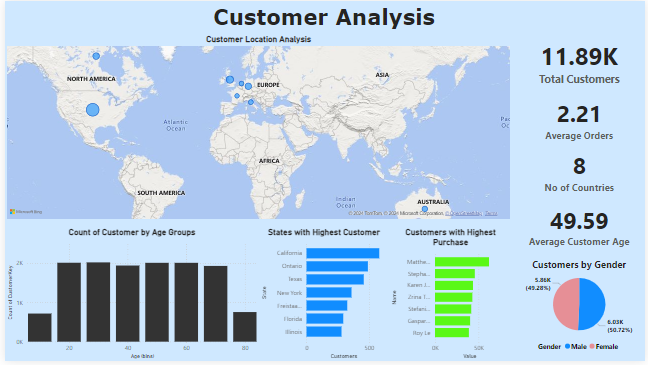

Layout of this report page (visuals, bound fields, positions):
{"tool":"powerbi","page":{"name":"Page 1","canvas":[1280,720],"ordinal":0},"visuals":[{"type":"textbox","box":[386,0,506,66],"z":0},{"type":"map","title":"Customer Location Analysis","fields":{"Category":["dataspark_database GE_Data.Country_Customer","dataspark_database GE_Data.State_Customer"],"Size":["dataspark_database GE_Data.CustomerKey"]},"box":[0,66.7,1015,375],"z":1000},{"type":"clusteredColumnChart","fields":{"Y":["dataspark_database GE_Data.CustomerKey"],"Category":["dataspark_database GE_Data.Age (bins)"]},"box":[0,451.7,1015,268.3],"z":2000},{"type":"card","fields":{"Values":["dataspark_database GE_Data.CustomerKey"]},"box":[1015,66.7,265,113.3],"z":3000},{"type":"card","fields":{"Values":["dataspark_database GE_Data.Count of OrderNumber average per CustomerKey"]},"box":[1015,180,265,113.3],"z":6000},{"type":"pieChart","fields":{"Category":["dataspark_database GE_Data.Gender"],"Y":["dataspark_database GE_Data.CustomerKey"]},"box":[1015,513.3,265,195],"z":7000},{"type":"card","fields":{"Values":["dataspark_database GE_Data.Country_Customer"]},"box":[1015,293.3,265,93.3],"z":7001},{"type":"card","fields":{"Values":["dataspark_database GE_Data.Average of Age average per CustomerKey"]},"box":[1015,386.7,265,126.7],"z":7002}]}

Visuals, with their boxes in screenshot pixels (x1, y1, x2, y2), scaled from the page's 1280x720 canvas onto the 648x365 screenshot:
textbox: Rect(195, 0, 452, 33)
"Customer Location Analysis" map: Rect(0, 34, 514, 224)
clusteredColumnChart - dataspark_database GE_Data.CustomerKey x dataspark_database GE_Data.Age (bins): Rect(0, 229, 514, 364)
card - dataspark_database GE_Data.CustomerKey: Rect(514, 34, 647, 91)
card - dataspark_database GE_Data.Count of OrderNumber average per CustomerKey: Rect(514, 91, 647, 149)
pieChart - dataspark_database GE_Data.Gender x dataspark_database GE_Data.CustomerKey: Rect(514, 260, 647, 359)
card - dataspark_database GE_Data.Country_Customer: Rect(514, 149, 647, 196)
card - dataspark_database GE_Data.Average of Age average per CustomerKey: Rect(514, 196, 647, 260)
